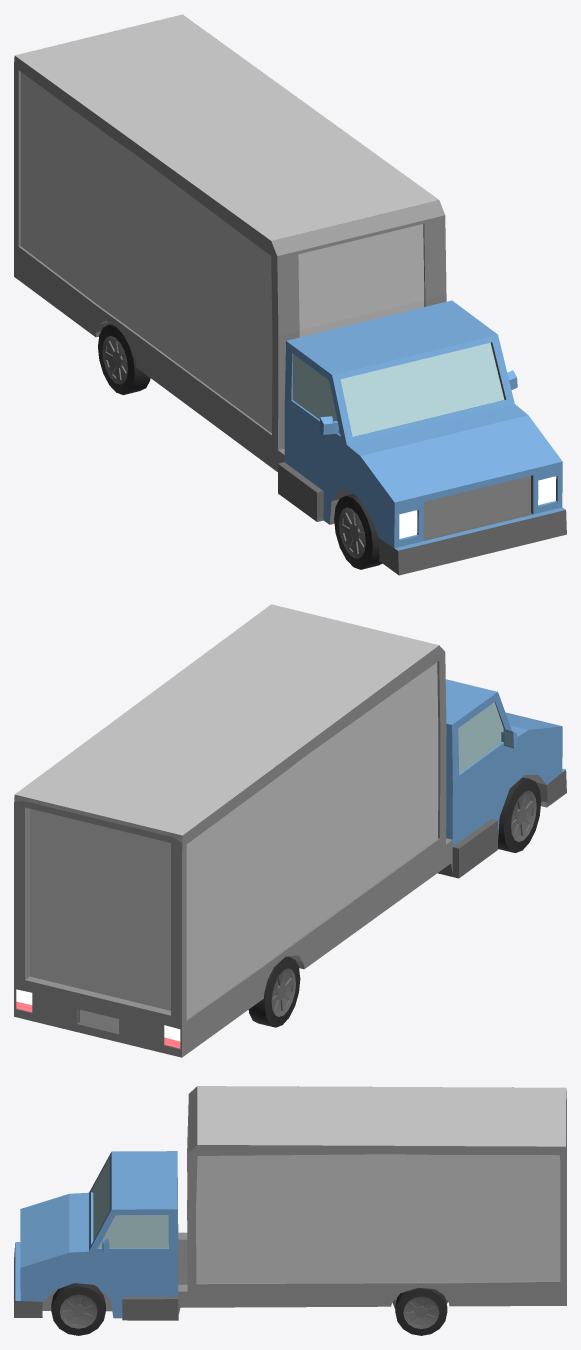
Rendered from movingTruck.glb.
3 renders of one model, top to bottom at view 1: azimuth 30°, elevation 25°; view 2: azimuth 150°, elevation 25°; view 3: azimuth 270°, elevation 25°, orthographic. The views are drawn at different scales.
Visible parts, largest first — view 1: Object_17, Object_12, Object_15, Object_13, Object_8, Object_40, Object_41, Object_4; view 2: Object_17, Object_15, Object_12, Object_40, Object_8, Object_13, Object_41; view 3: Object_17, Object_12, Object_15, Object_13, Object_40, Object_8, Object_41.
Part boxes in pixels (x1,y1,x2,y2): Object_17: (15,14,438,432); Object_12: (284,300,565,550); Object_15: (14,56,530,538); Object_13: (293,342,504,436); Object_8: (278,342,566,575); Object_40: (98,324,382,569); Object_41: (102,335,365,558); Object_4: (399,476,556,538); Object_17: (15,604,438,1018); Object_15: (14,645,547,1057); Object_12: (445,679,565,846); Object_40: (248,777,541,1027); Object_8: (32,702,566,1055); Object_13: (458,702,503,773); Object_41: (271,790,536,1016); Object_17: (188,1086,565,1283); Object_12: (15,1151,327,1318); Object_15: (41,1086,566,1316); Object_13: (93,1164,177,1248); Object_40: (51,1283,447,1335); Object_8: (14,1158,187,1320); Object_41: (59,1294,439,1328).
Size of the model in its own units: 1.31 by 1.71 by 4.48.
